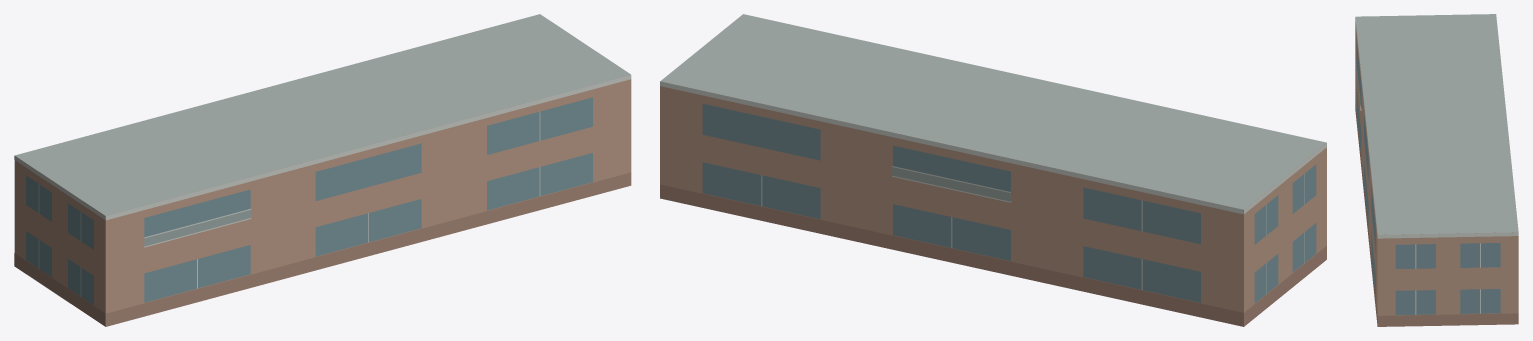
Rendered from survey-upis-32705993.glb.
3 renders of one model, left to right at view 1: azimuth 30°, elevation 25°; view 2: azimuth 150°, elevation 25°; view 3: azimuth 270°, elevation 25°, orthographic. The views are drawn at different scales.
Parts seen in each view (by area): view 1: survey-upis-32705993.tmp; view 2: survey-upis-32705993.tmp; view 3: survey-upis-32705993.tmp.
Part boxes in pixels (x1,y1,x2,y2): survey-upis-32705993.tmp: [14, 14, 631, 326]; survey-upis-32705993.tmp: [660, 14, 1326, 326]; survey-upis-32705993.tmp: [1355, 14, 1518, 326].
Bounding box in the file's own units: 31.42 × 6.1 × 9.83.
